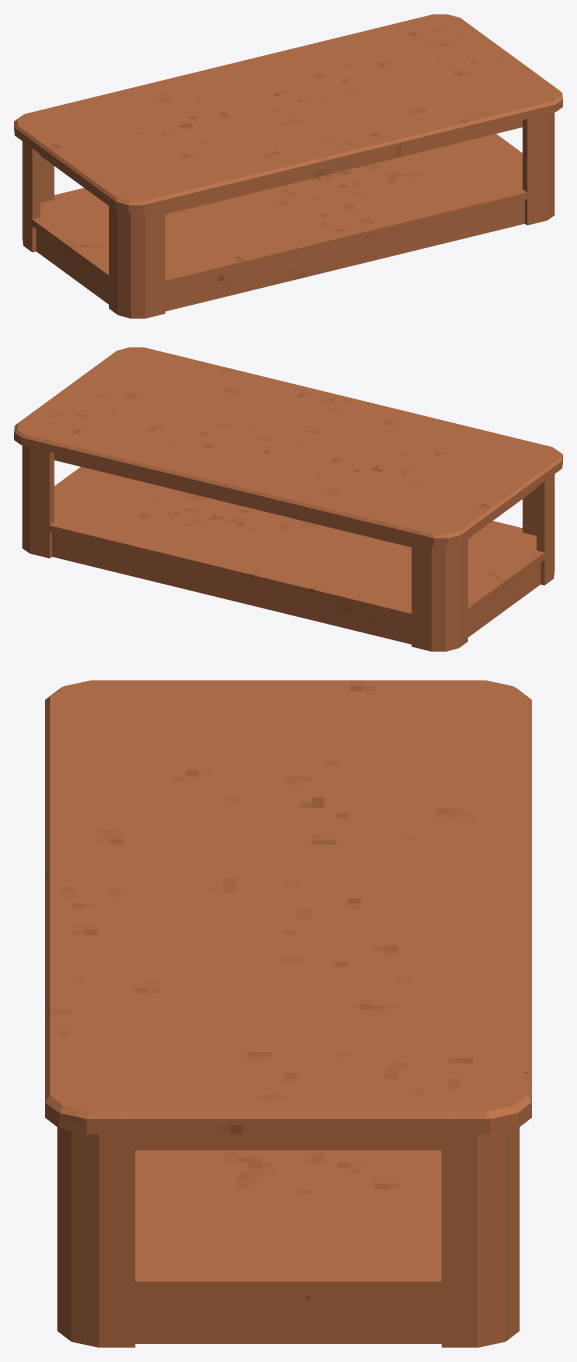
Rendered from CoffeeTable.fbx.
The picture shows the model from 3 angles, top to bottom: view 1: azimuth 30°, elevation 25°; view 2: azimuth 150°, elevation 25°; view 3: azimuth 270°, elevation 25°; orthographic projection. The views are drawn at different scales.
Visible parts, largest first — view 1: Table_Coffee; view 2: Table_Coffee; view 3: Table_Coffee.
Part boxes in pixels (bbox=[...]): Table_Coffee: bbox=[14, 14, 562, 318]; Table_Coffee: bbox=[14, 347, 562, 651]; Table_Coffee: bbox=[45, 680, 531, 1347].
Size of the model in its own units: 345 by 88.18 by 163.
Materials: 1 (1 with a texture image).
